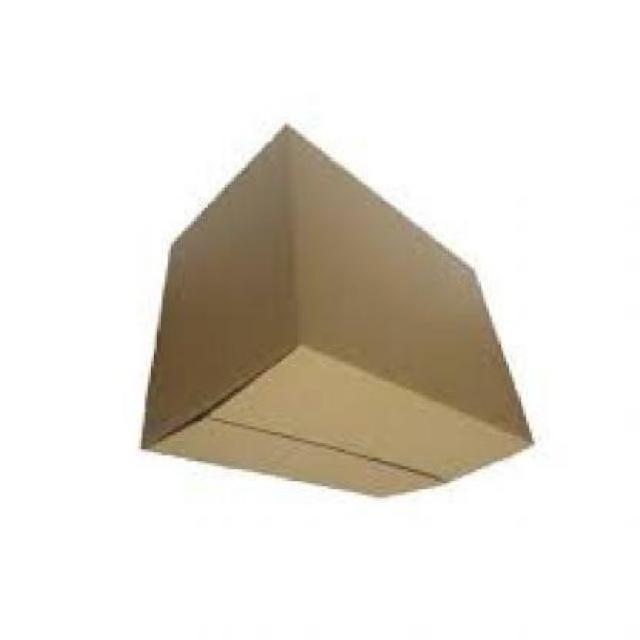box: (143, 129, 535, 502)
